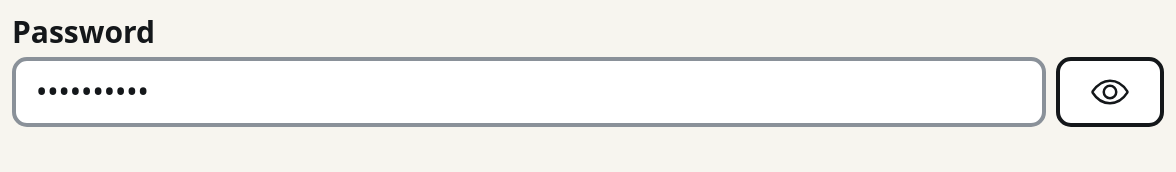
Test: password field › shows and hides the password with a pressed toggle
What coordinates should you click on to do the following:
click the button named "Show password"
I would click on:
 (1110, 92)
Its box is [1056,57,1164,127].
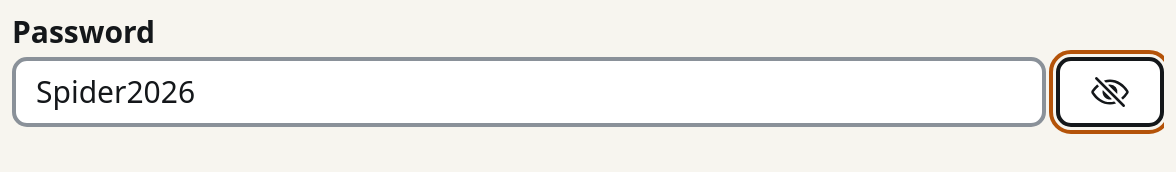
expect the field labelled "Password" shows its text: met, box [12,57,1046,127]
What coordinates should you click on to do the following:
click the button named "Hide password"
I would click on:
 (1110, 92)
Its box is [1056,57,1164,127].
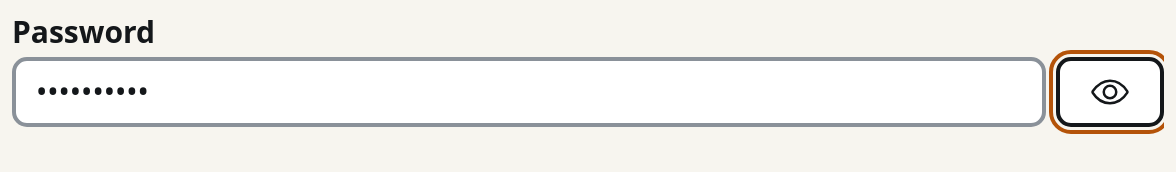
expect the password field labelled "Password" hides its text: met, box [12,57,1046,127]
